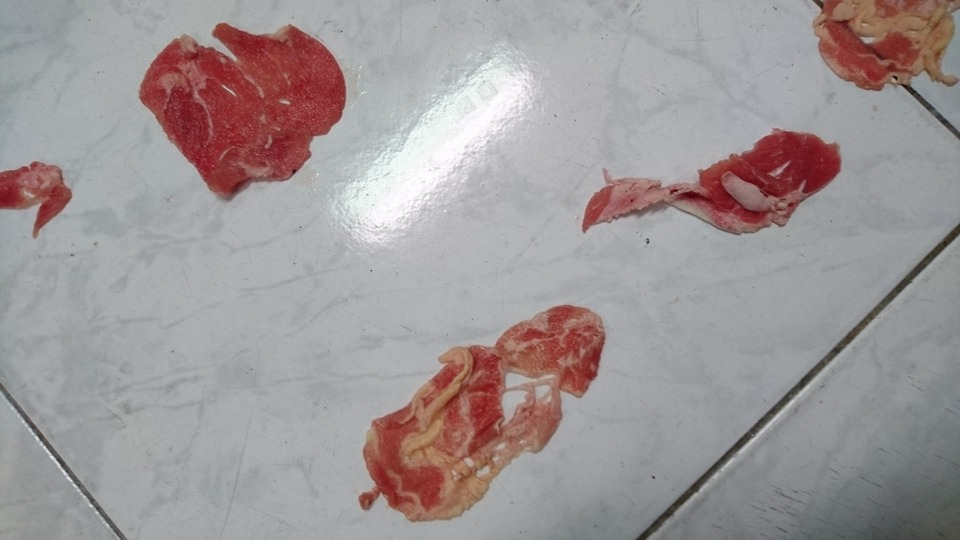restructured meat: (352, 308, 618, 517), (127, 37, 364, 199), (575, 130, 868, 232), (795, 4, 957, 98)
